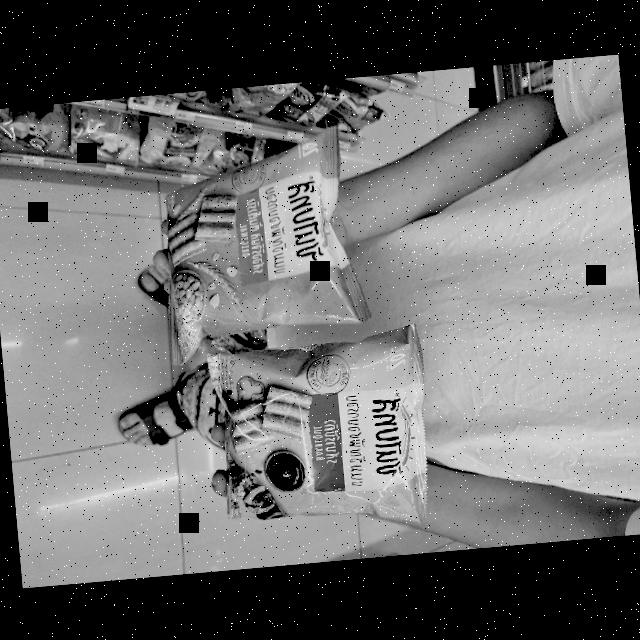snack_bag: (193, 313, 444, 554), (138, 137, 385, 356)
